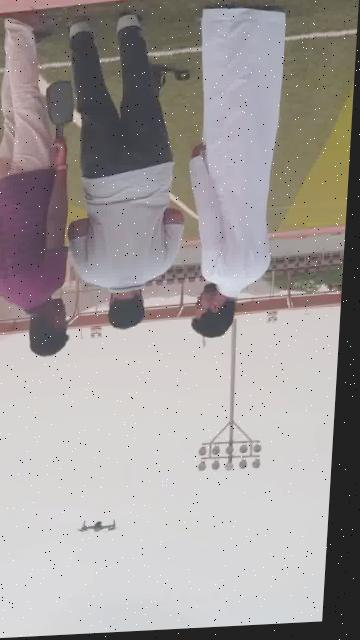drone: (77, 518, 130, 539)
